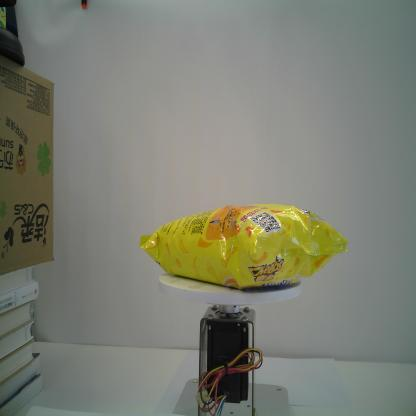Puffed Food: (138, 201, 350, 291)
